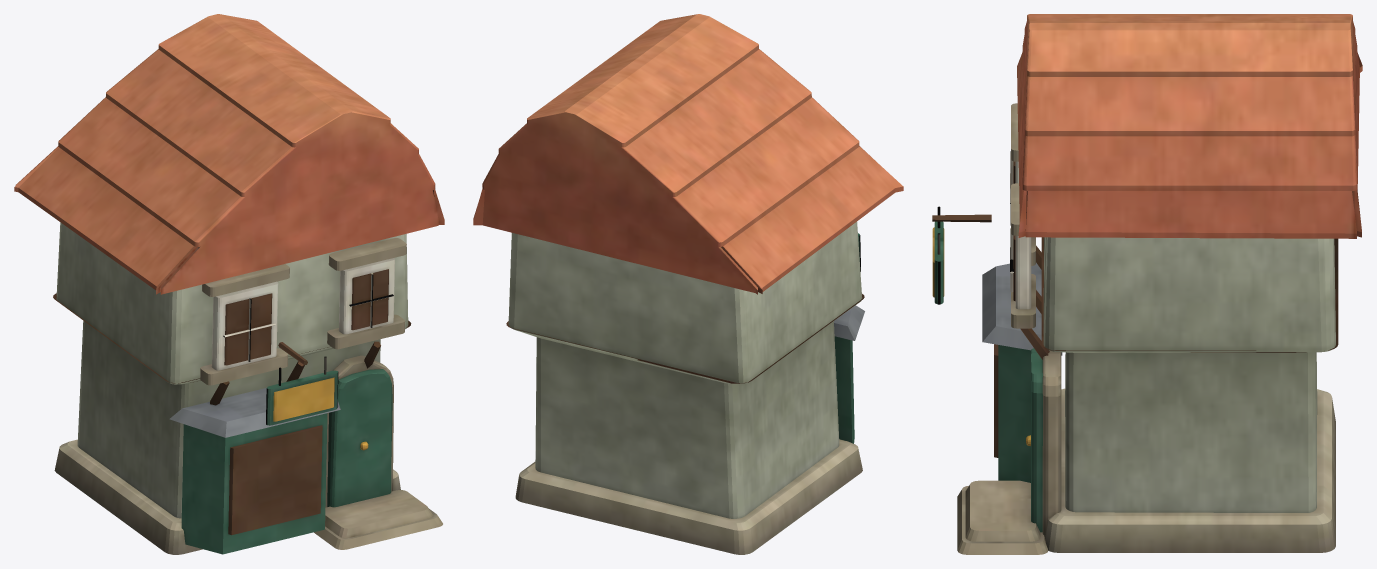
The model's file is bookshop.glb.
3 views of the same model, side by side, from view 1: azimuth 30°, elevation 25°; view 2: azimuth 150°, elevation 25°; view 3: azimuth 270°, elevation 25° (orthographic). The views are drawn at different scales.
Parts seen in each view (by area): view 1: Bookshop; view 2: Bookshop; view 3: Bookshop.
Part boxes in pixels (x1,y1,x2,y2): Bookshop: (14,14,444,554); Bookshop: (473,14,903,554); Bookshop: (932,14,1362,554).
Size of the model in its own units: 3.52 by 4.72 by 3.77.
Materials: 1 (1 with a texture image).
